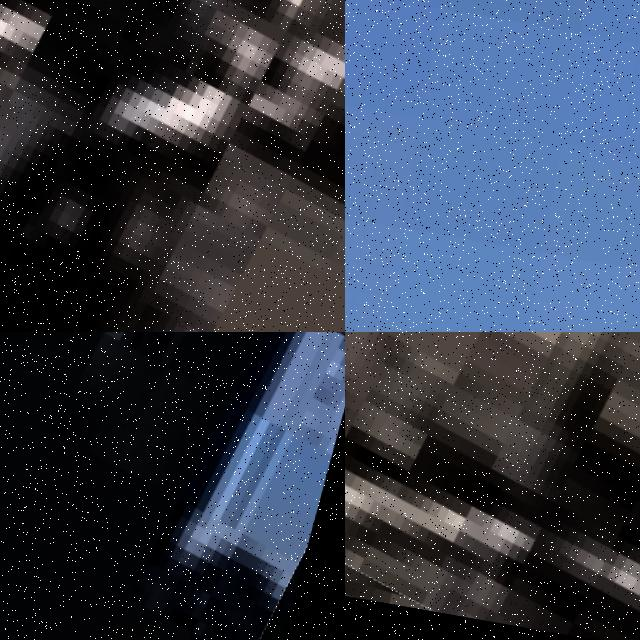drone: (0, 0, 345, 332), (0, 332, 345, 640), (345, 332, 640, 640)
